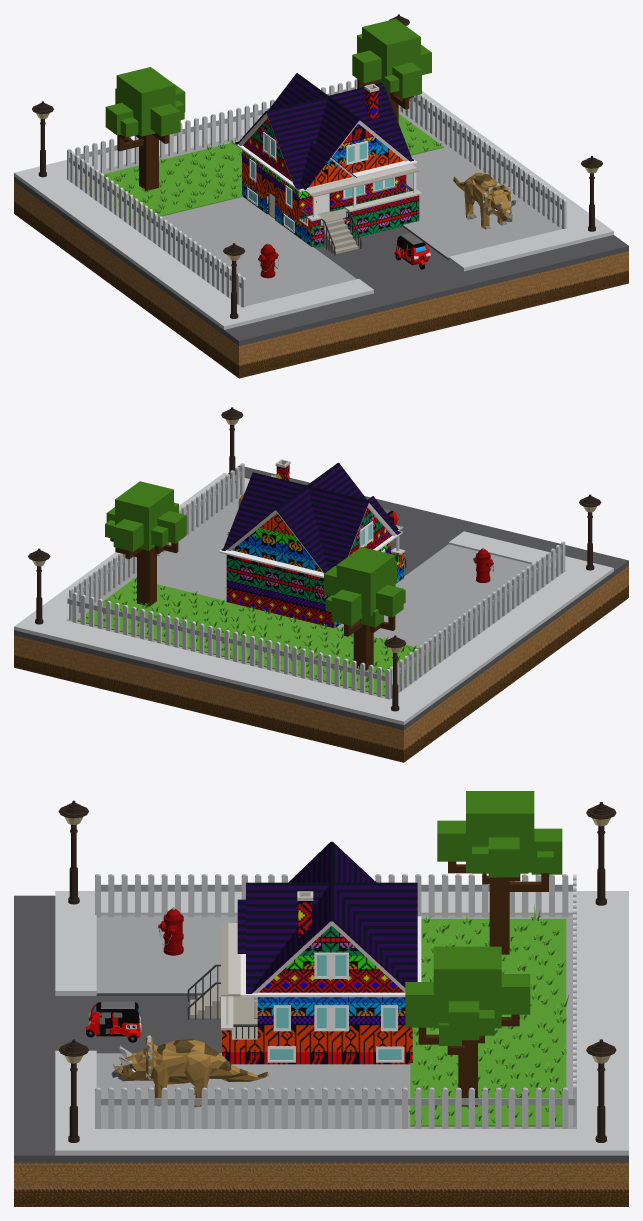
3 renders of one model, top to bottom at view 1: azimuth 30°, elevation 25°; view 2: azimuth 150°, elevation 25°; view 3: azimuth 270°, elevation 25°, orthographic. The views are drawn at different scales.
Visible parts, largest first — view 1: Cube.004, Cube.966, ANIMAL_Triceratops, VEHICLES_TUC_TUC, OBJRANDOM_FIRE_HYDRANT; view 2: Cube.004, Cube.966, OBJRANDOM_FIRE_HYDRANT; view 3: Cube.004, Cube.966, ANIMAL_Triceratops, VEHICLES_TUC_TUC, OBJRANDOM_FIRE_HYDRANT.
Part boxes in pixels (x1,y1,x2,y2): Cube.004: (14, 14, 628, 378); Cube.966: (233, 73, 422, 255); ANIMAL_Triceratops: (453, 172, 516, 229); VEHICLES_TUC_TUC: (394, 233, 430, 269); OBJRANDOM_FIRE_HYDRANT: (258, 243, 278, 278); Cube.004: (14, 407, 628, 762); Cube.966: (218, 459, 406, 627); OBJRANDOM_FIRE_HYDRANT: (473, 547, 493, 582); Cube.004: (14, 791, 628, 1206); Cube.966: (187, 841, 421, 1064); ANIMAL_Triceratops: (111, 1035, 268, 1107); VEHICLES_TUC_TUC: (86, 1001, 141, 1042); OBJRANDOM_FIRE_HYDRANT: (158, 907, 183, 955).
Bounding box in the file's own units: 4000 × 1609 × 4000.
40 materials, 7 textured.
